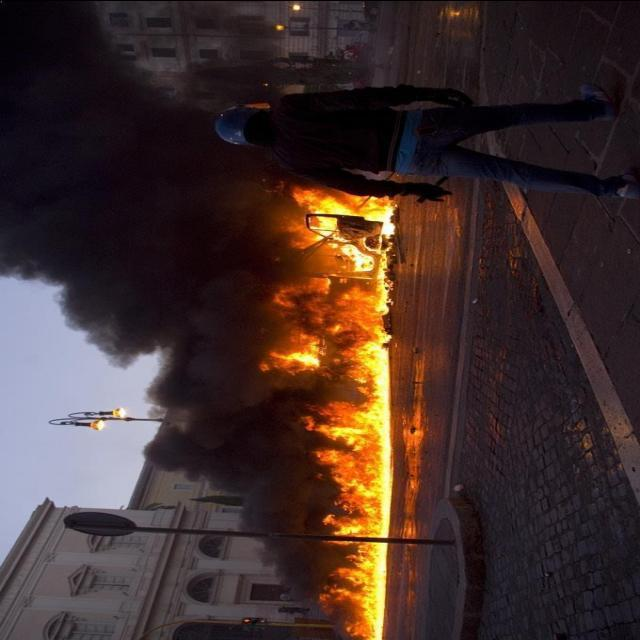Fire: (246, 172, 392, 639)
